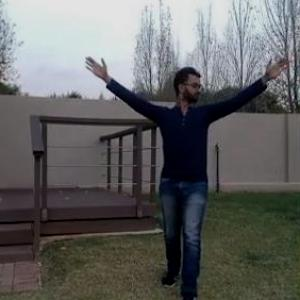takeoff: (82, 52, 294, 299)
